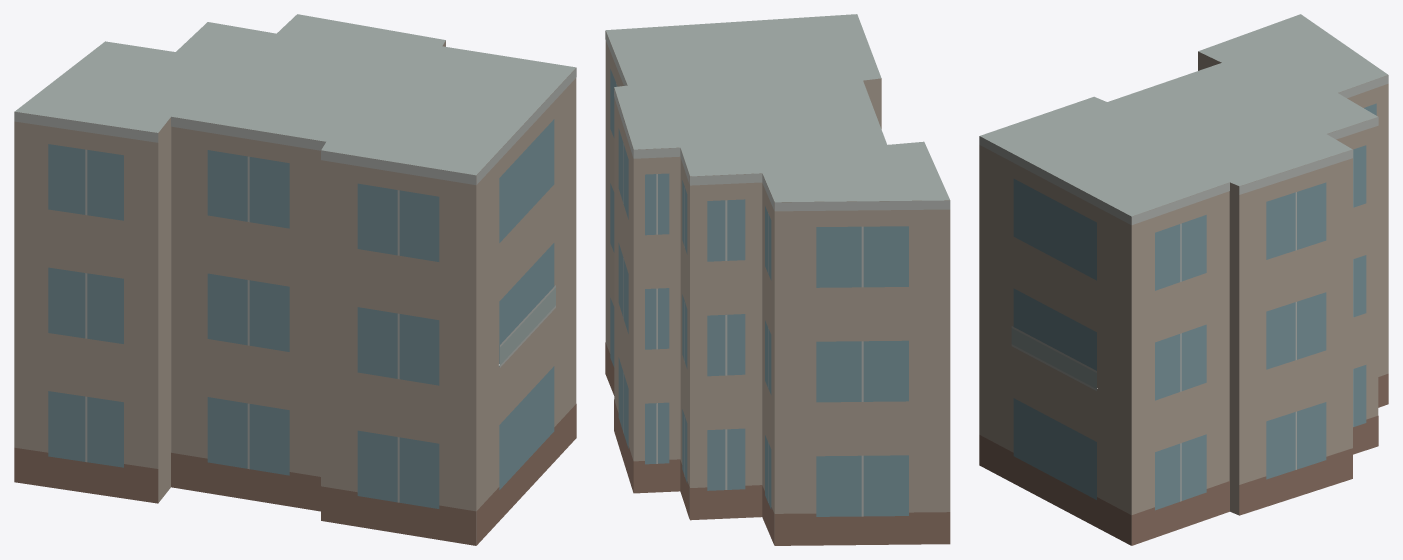
The model's file is survey-upis-32696421.glb.
3 views of the same model, side by side, from view 1: azimuth 30°, elevation 25°; view 2: azimuth 150°, elevation 25°; view 3: azimuth 270°, elevation 25° (orthographic). The views are drawn at different scales.
Visible parts, largest first — view 1: survey-upis-32696421.tmp; view 2: survey-upis-32696421.tmp; view 3: survey-upis-32696421.tmp.
Part boxes in pixels (x1=…): survey-upis-32696421.tmp: x1=14, y1=14, x2=576, y2=545; survey-upis-32696421.tmp: x1=605, y1=14, x2=950, y2=545; survey-upis-32696421.tmp: x1=979, y1=14, x2=1388, y2=545.
Size of the model in its own units: 12.08 by 9.15 by 10.31.
